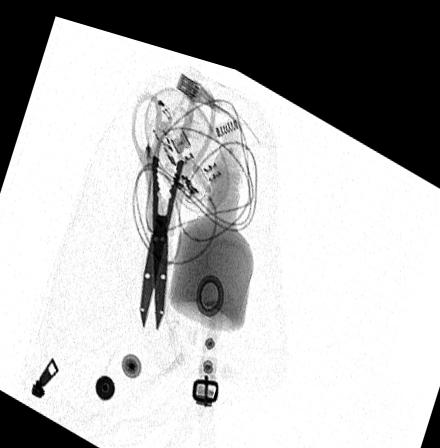Scissors: (129, 64, 219, 326)
